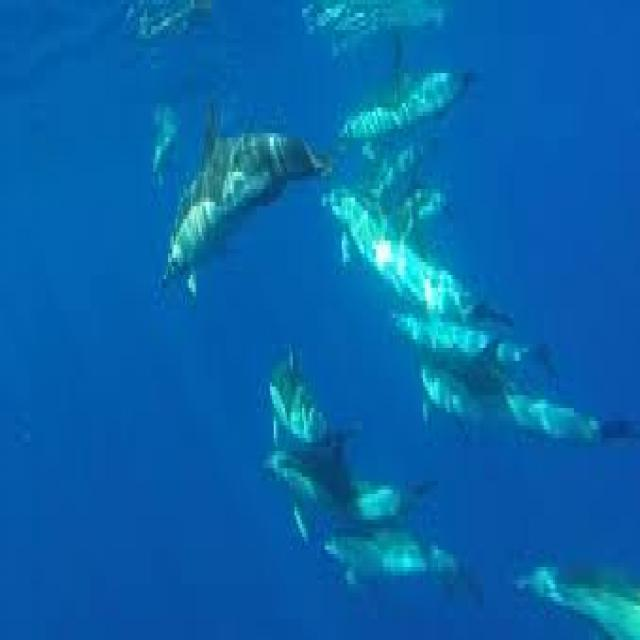dolphin: (142, 64, 318, 318)
